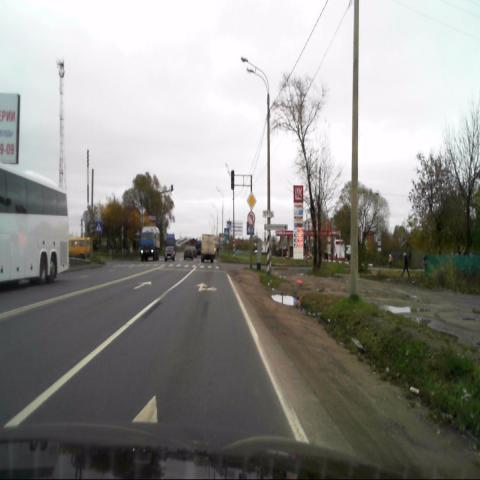2_1: (246, 192, 256, 209)
3_18_2: (247, 211, 255, 224)
5_19_1: (95, 220, 102, 232)
